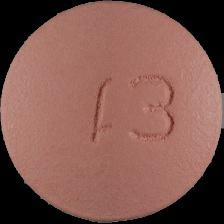68788-9392: (0, 0, 224, 224)
